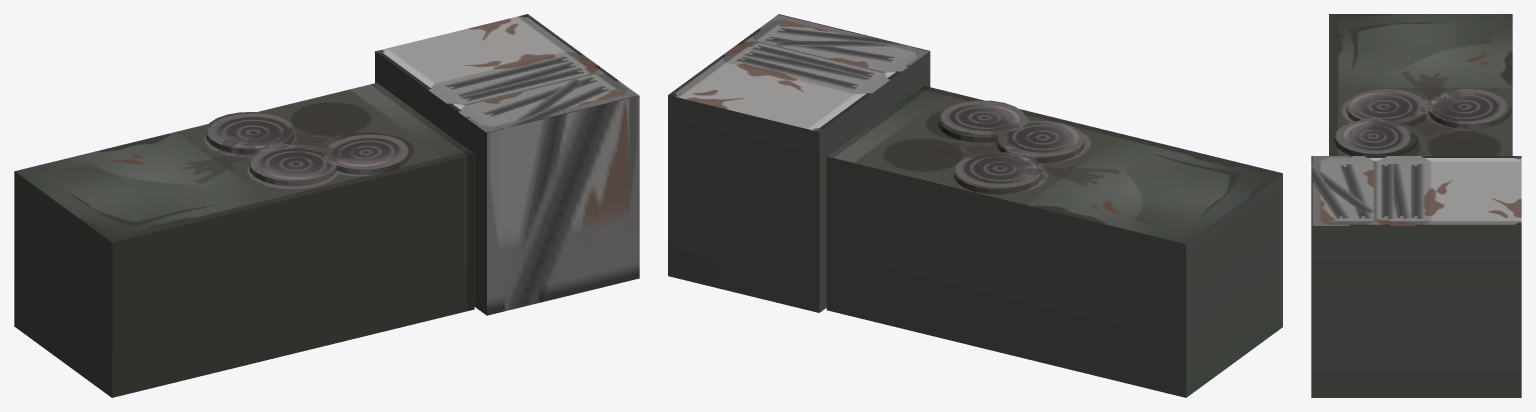
The model's file is Building_AncientTableStoveElectric.obj.
3 views of the same model, side by side, from view 1: azimuth 30°, elevation 25°; view 2: azimuth 150°, elevation 25°; view 3: azimuth 270°, elevation 25° (orthographic). The views are drawn at different scales.
Visible parts, largest first — view 1: Body; view 2: Body; view 3: Body.
Boxes of the visible parts, left/top/right/bottom form: Body: left=14, top=14, right=639, bottom=397; Body: left=668, top=14, right=1282, bottom=397; Body: left=1311, top=14, right=1521, bottom=397.
Size of the model in its own units: 2.97 by 1 by 1.11.
1 material, 1 textured.
